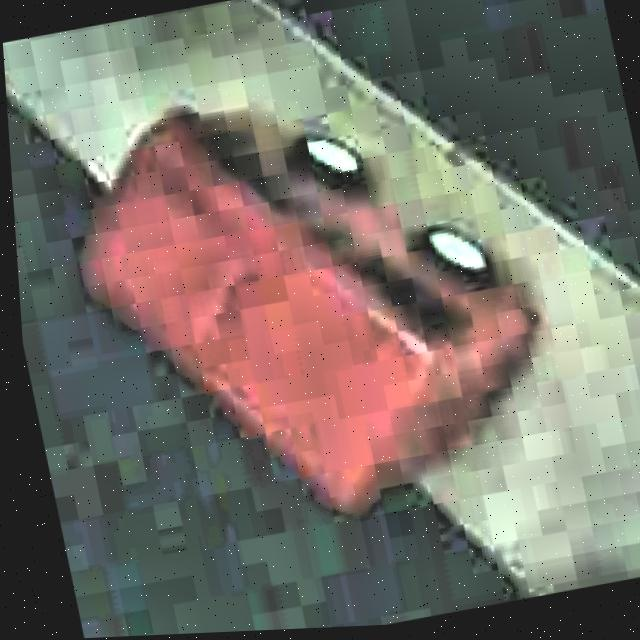bus: (46, 53, 576, 553)
